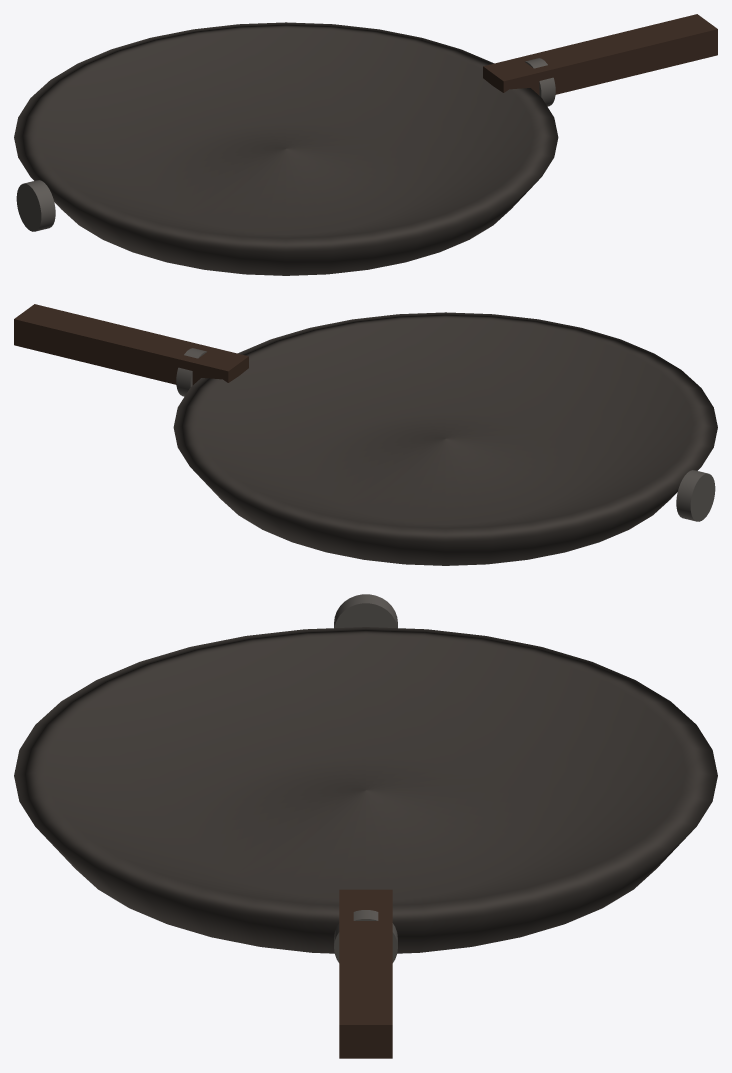
File: wok_eq_carbon_wok.glb
The picture shows the model from 3 angles, top to bottom: view 1: azimuth 30°, elevation 25°; view 2: azimuth 150°, elevation 25°; view 3: azimuth 270°, elevation 25°; orthographic projection. The views are drawn at different scales.
Bounding box in the file's own units: 0.95 × 0.1198 × 0.66.
